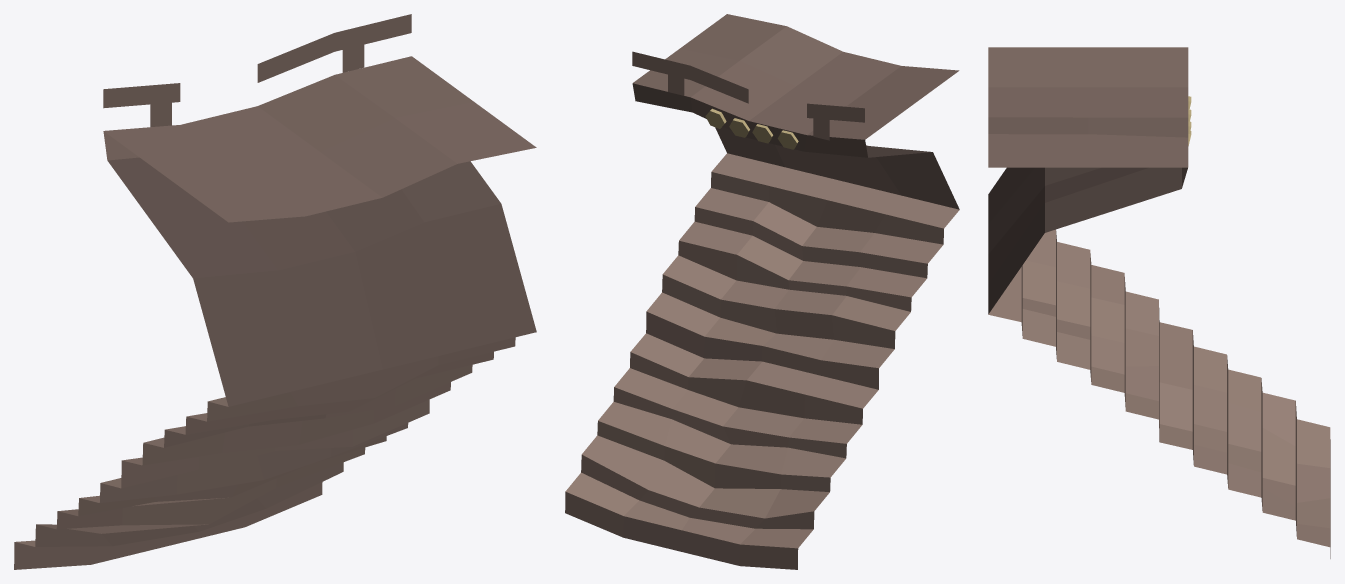
Rendered from bg_seats_broken_01.fbx.
The picture shows the model from 3 angles, left to right: view 1: azimuth 30°, elevation 25°; view 2: azimuth 150°, elevation 25°; view 3: azimuth 270°, elevation 25°; orthographic projection. The views are drawn at different scales.
Visible parts, largest first — view 1: bg_seats_broken_01; view 2: bg_seats_broken_01; view 3: bg_seats_broken_01.
Part boxes in pixels (box(x1,y1,x2,y2)): bg_seats_broken_01: box(14, 14, 536, 569); bg_seats_broken_01: box(565, 14, 959, 569); bg_seats_broken_01: box(988, 47, 1330, 558).
Size of the model in its own units: 1191 by 2066 by 1435.
